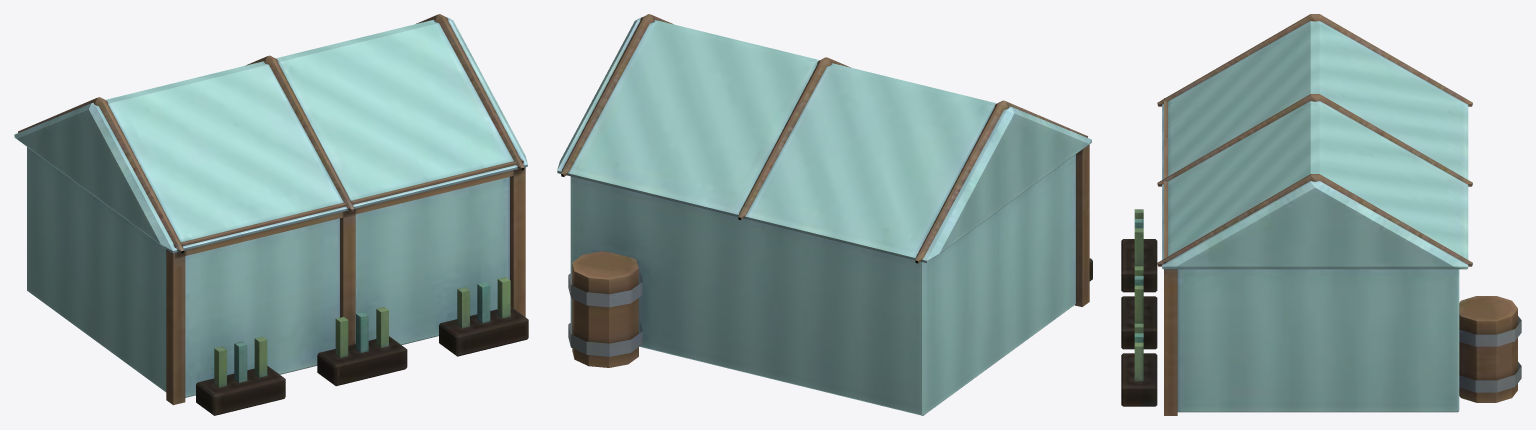
The model's file is greenhouse-3-age10.glb.
3 views of the same model, side by side, from view 1: azimuth 30°, elevation 25°; view 2: azimuth 150°, elevation 25°; view 3: azimuth 270°, elevation 25° (orthographic). The views are drawn at different scales.
Parts seen in each view (by area): view 1: greenhouse-3-age10; view 2: greenhouse-3-age10; view 3: greenhouse-3-age10.
Part boxes in pixels (x1,y1,x2,y2): greenhouse-3-age10: (14, 14, 528, 415); greenhouse-3-age10: (557, 14, 1092, 415); greenhouse-3-age10: (1121, 14, 1521, 415).
Size of the model in its own units: 0.9 by 0.5835 by 0.888.
Materials: 1 (1 with a texture image).
